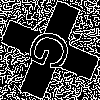G: (25, 25, 83, 80)
